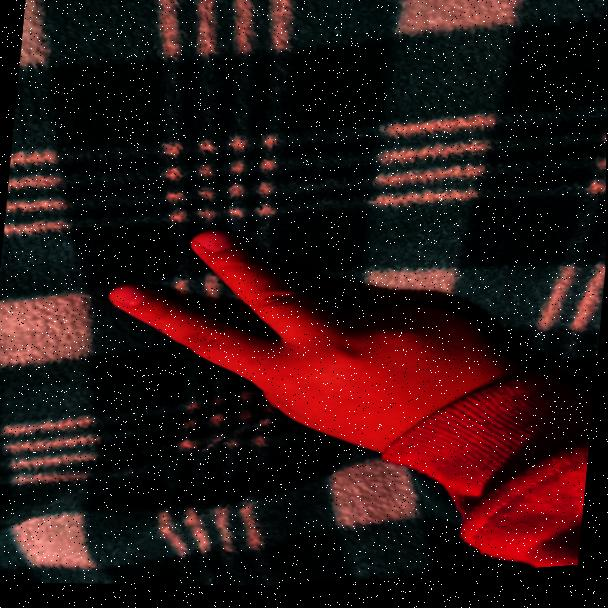two: (78, 196, 529, 489)
